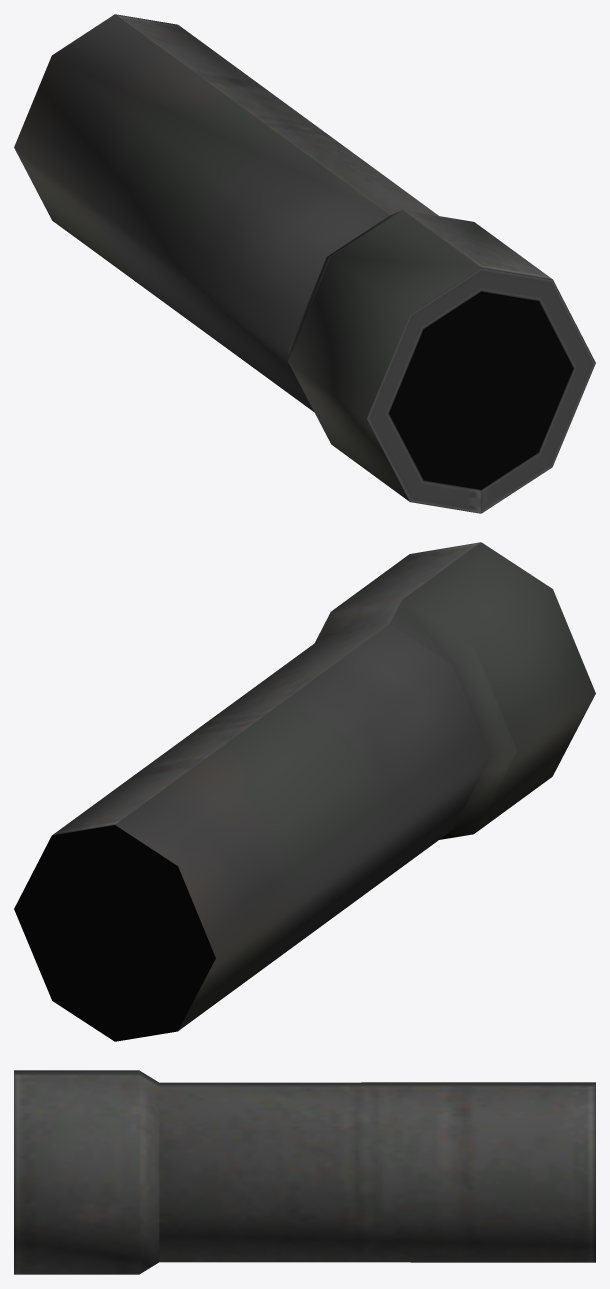
The model's file is SMG_cfq_qt_002_Stock_Main_(000064).glb.
3 views of the same model, one above another, from view 1: azimuth 30°, elevation 25°; view 2: azimuth 150°, elevation 25°; view 3: azimuth 270°, elevation 25° (orthographic). The views are drawn at different scales.
Visible parts, largest first — view 1: cfq_qt_002; view 2: cfq_qt_002; view 3: cfq_qt_002.
Part boxes in pixels (bbox=[...]): cfq_qt_002: bbox=[14, 14, 595, 513]; cfq_qt_002: bbox=[14, 542, 595, 1041]; cfq_qt_002: bbox=[14, 1070, 595, 1274].
Bounding box in the file's own units: 0.05 × 0.0513 × 0.1384.
Materials: 1 (1 with a texture image).
